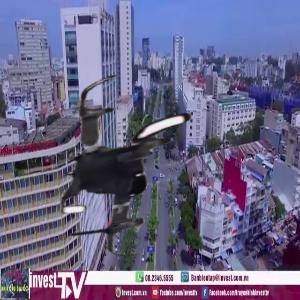drone: (36, 70, 232, 266)
